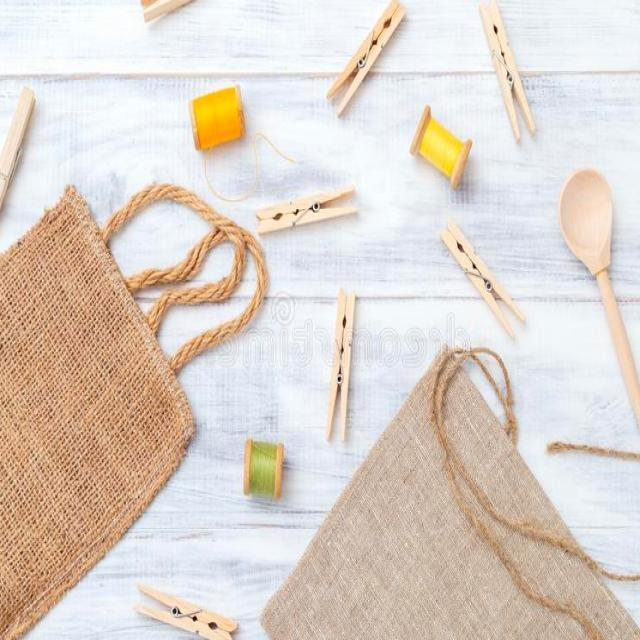clothes: (248, 369, 640, 640), (0, 220, 213, 638)
